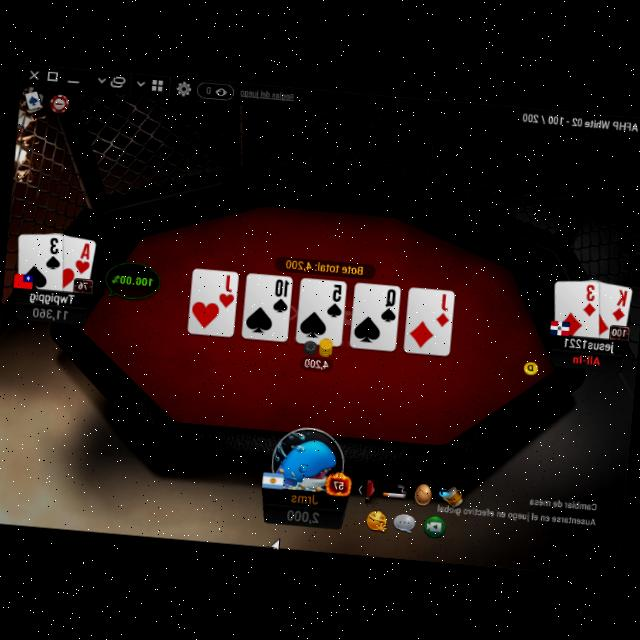3d: (582, 281, 598, 318)
3s: (44, 235, 64, 270)
5s: (324, 280, 346, 318)
Ah: (72, 238, 94, 274)
Jd: (434, 290, 452, 326)
Jh: (216, 270, 236, 307)
Kd: (608, 284, 630, 322)
Qs: (378, 284, 399, 322)
Ts: (271, 275, 291, 312)
all_in_symbol: (570, 350, 602, 366)
bet_text: (302, 354, 329, 368)
dealer: (521, 356, 541, 375)
pot_text: (284, 256, 366, 274)
stack_text: (285, 502, 321, 522), (30, 303, 69, 320)
